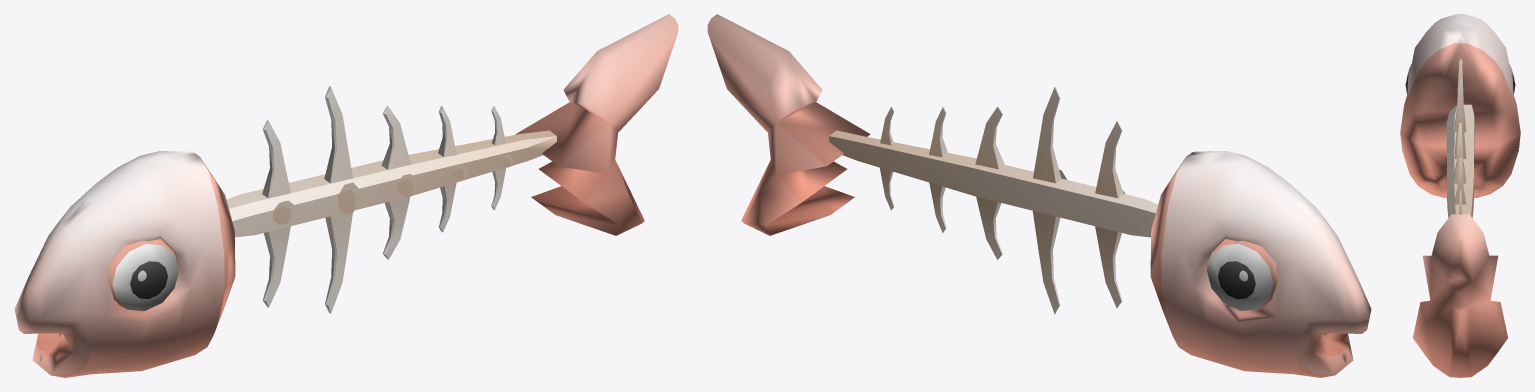
The model's file is fishalmostdead_001.glb.
The picture shows the model from 3 angles, left to right: view 1: azimuth 30°, elevation 25°; view 2: azimuth 150°, elevation 25°; view 3: azimuth 270°, elevation 25°; orthographic projection. The views are drawn at different scales.
Parts seen in each view (by area): view 1: fishalmostdead.001; view 2: fishalmostdead.001; view 3: fishalmostdead.001.
Part boxes in pixels (x1=…): fishalmostdead.001: x1=14, y1=14, x2=678, y2=377; fishalmostdead.001: x1=707, y1=14, x2=1371, y2=377; fishalmostdead.001: x1=1400, y1=14, x2=1520, y2=377.
Bounding box in the file's own units: 1.05 × 0.3486 × 0.1915.
1 material, 1 textured.
